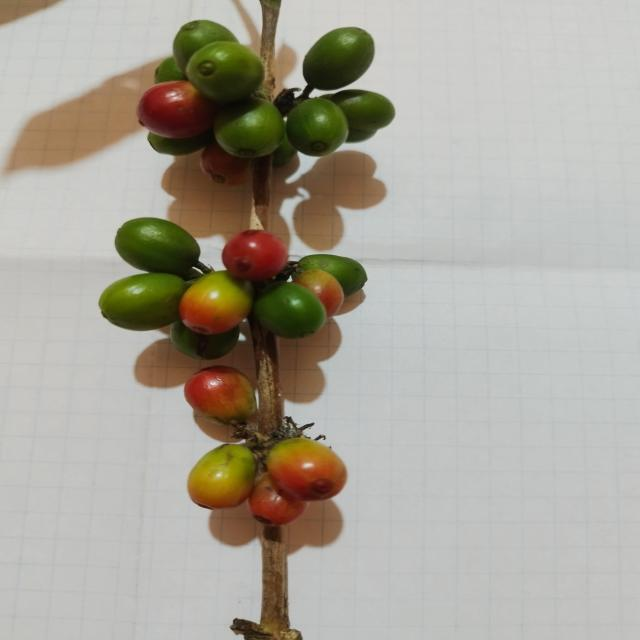Danado: (187, 444, 258, 511)
Sano: (96, 270, 195, 333), (265, 437, 347, 501), (185, 41, 265, 106), (178, 271, 257, 336), (137, 80, 219, 140), (115, 217, 201, 274), (253, 275, 327, 339), (209, 97, 286, 157), (303, 27, 375, 90), (285, 97, 349, 157), (222, 231, 288, 282)
